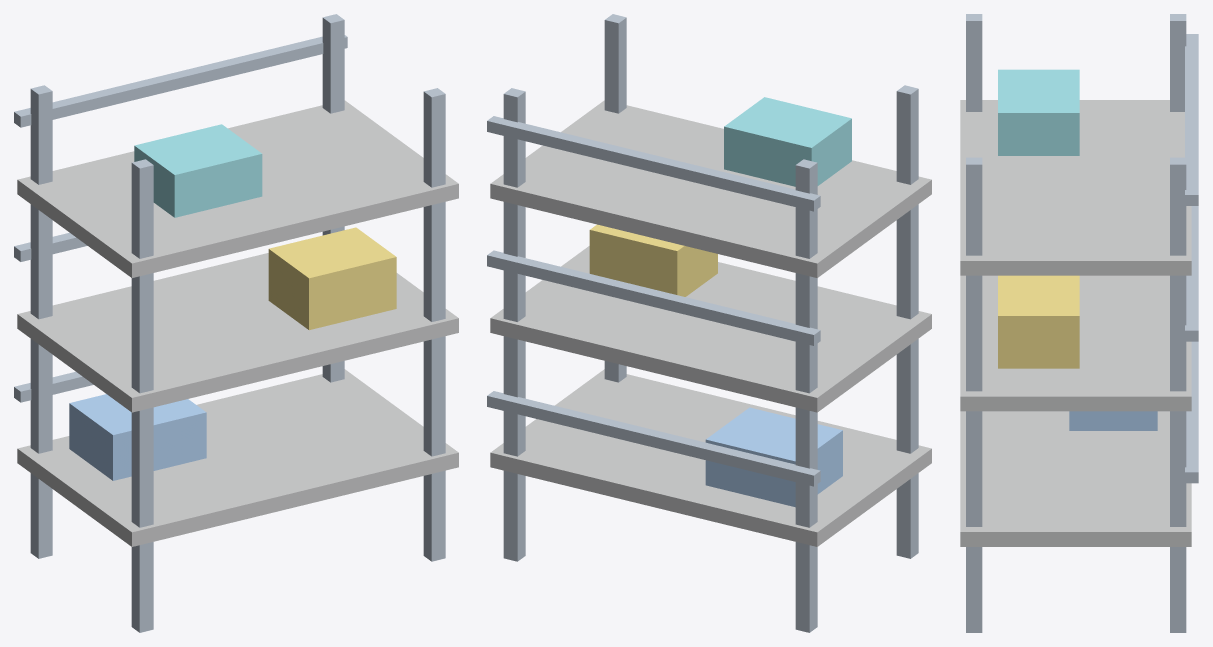
Rendered from supply_shelf.glb.
3 renders of one model, left to right at view 1: azimuth 30°, elevation 25°; view 2: azimuth 150°, elevation 25°; view 3: azimuth 270°, elevation 25°, orthographic.
Parts seen in each view (by area): view 1: open white shelf board 1, open white shelf board 3, open white shelf board 2, thin upright shelf post (×4), yellow ppe supply box, teal sterile pack stack, blue folded linen stack, visible rear rack rail 3, visible rear rack rail 1, visible rear rack rail 2; view 2: open white shelf board 3, open white shelf board 2, open white shelf board 1, thin upright shelf post (×4), teal sterile pack stack, blue folded linen stack, yellow ppe supply box, visible rear rack rail 2, visible rear rack rail 1, visible rear rack rail 3; view 3: open white shelf board 3, open white shelf board 1, open white shelf board 2, thin upright shelf post (×4), yellow ppe supply box, teal sterile pack stack, visible rear rack rail 3, blue folded linen stack, visible rear rack rail 1, visible rear rack rail 2.
Boxes of the visible parts, x1,y1,x2,y2 form: open white shelf board 1: [17, 369, 458, 546]; open white shelf board 3: [17, 100, 458, 277]; open white shelf board 2: [17, 253, 458, 412]; thin upright shelf post (×4): [30, 14, 445, 632]; yellow ppe supply box: [268, 227, 396, 330]; teal sterile pack stack: [134, 124, 262, 217]; blue folded linen stack: [69, 394, 206, 480]; visible rear rack rail 3: [14, 35, 347, 127]; visible rear rack rail 1: [14, 371, 93, 402]; visible rear rack rail 2: [14, 232, 87, 261]; open white shelf board 3: [490, 100, 931, 277]; open white shelf board 2: [490, 246, 931, 412]; open white shelf board 1: [490, 369, 931, 546]; thin upright shelf post (×4): [503, 14, 918, 632]; teal sterile pack stack: [724, 97, 851, 186]; blue folded linen stack: [705, 407, 842, 507]; yellow ppe supply box: [589, 224, 717, 296]; visible rear rack rail 2: [487, 250, 820, 345]; visible rear rack rail 1: [487, 391, 820, 486]; visible rear rack rail 3: [487, 116, 820, 211]; open white shelf board 3: [960, 100, 1191, 275]; open white shelf board 1: [960, 411, 1191, 546]; open white shelf board 2: [960, 275, 1191, 411]; thin upright shelf post (×4): [966, 14, 1186, 632]; yellow ppe supply box: [998, 275, 1079, 368]; teal sterile pack stack: [998, 69, 1079, 155]; visible rear rack rail 3: [1185, 34, 1198, 205]; blue folded linen stack: [1069, 411, 1157, 430]; visible rear rack rail 1: [1185, 341, 1198, 483]; visible rear rack rail 2: [1185, 206, 1198, 341].
Size of the model in its own units: 0.56 by 0.76 by 0.35.
